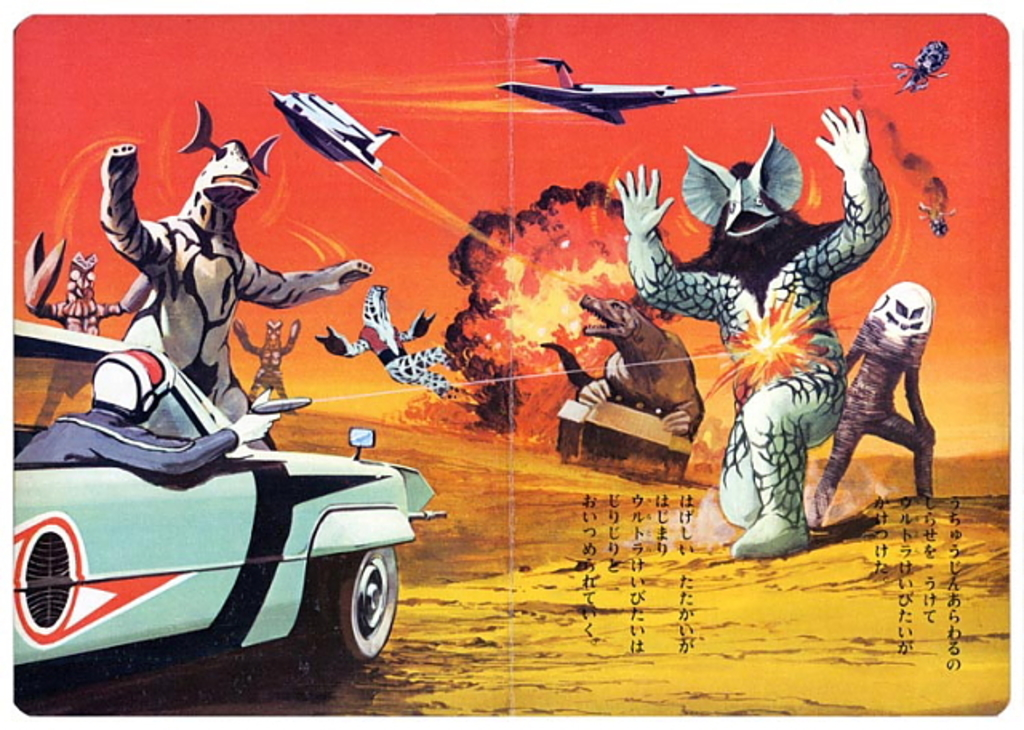Car: (6, 315, 449, 718)
